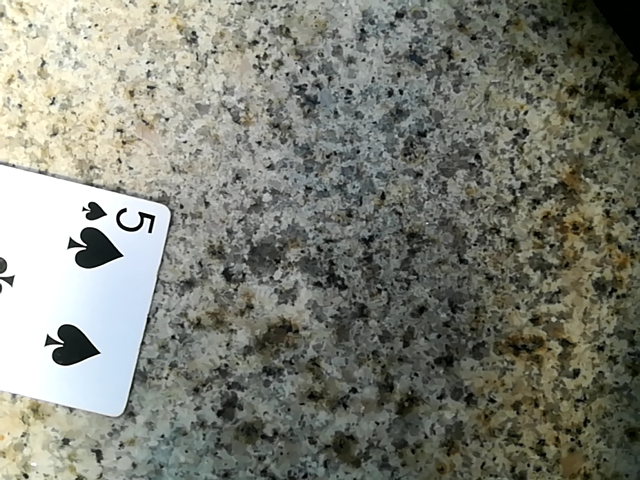ht 5: (0, 131, 167, 425)
